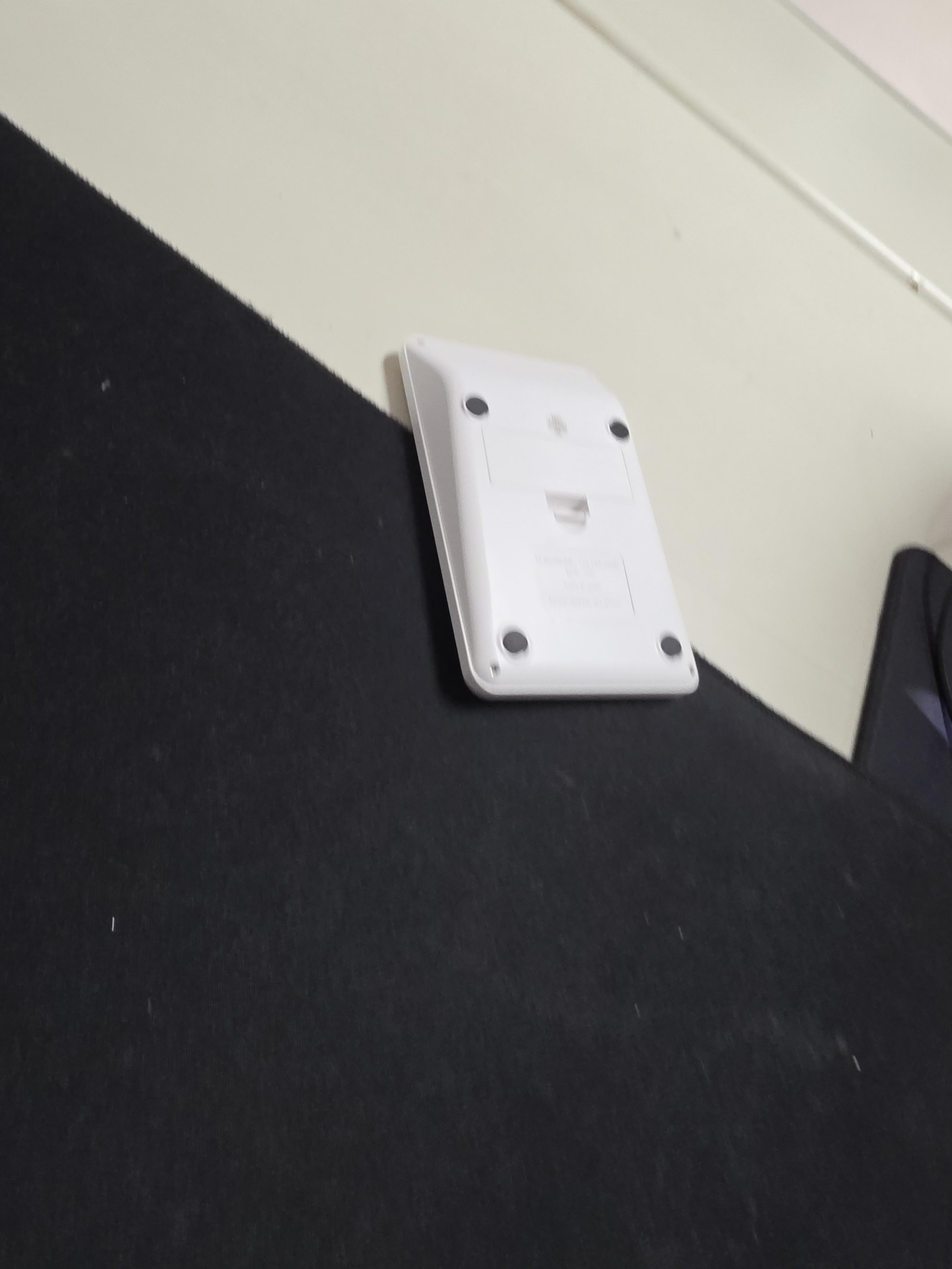calculator: (397, 335, 700, 700)
